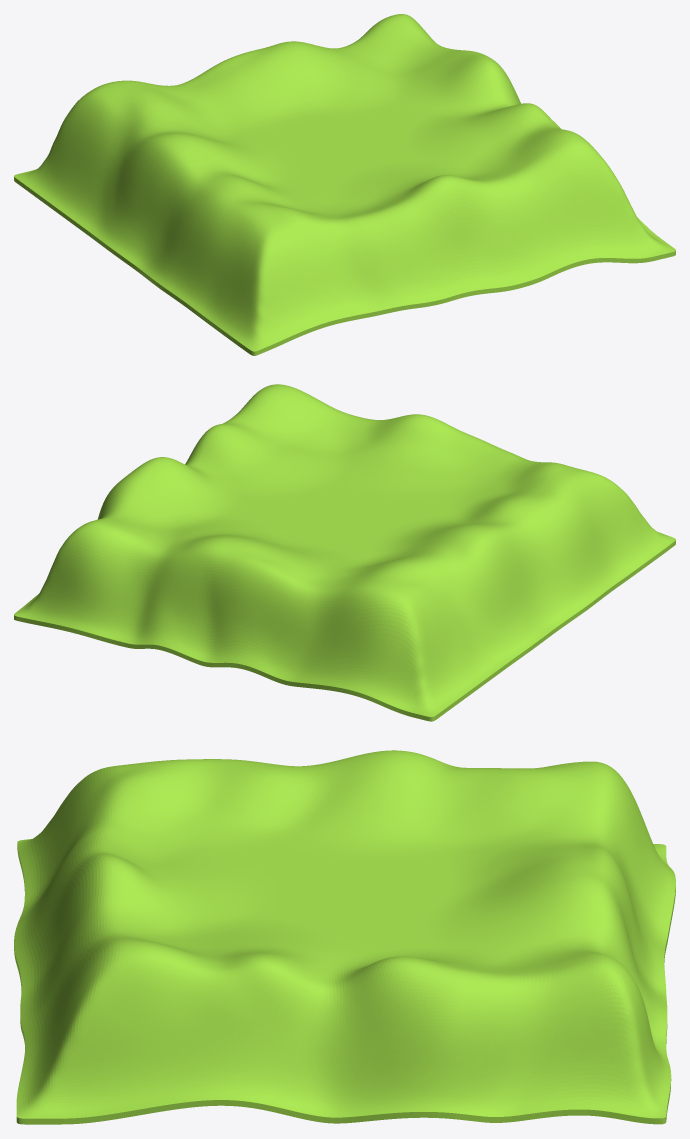
Rendered from Terrain.glb.
3 renders of one model, top to bottom at view 1: azimuth 30°, elevation 25°; view 2: azimuth 150°, elevation 25°; view 3: azimuth 270°, elevation 25°, orthographic. The views are drawn at different scales.
Parts seen in each view (by area): view 1: Cube; view 2: Cube; view 3: Cube.
Boxes of the visible parts, x1,y1,x2,y2 form: Cube: (14, 14, 675, 355); Cube: (14, 384, 675, 721); Cube: (14, 750, 675, 1124).
Size of the model in its own units: 19.27 by 4.35 by 19.09.
